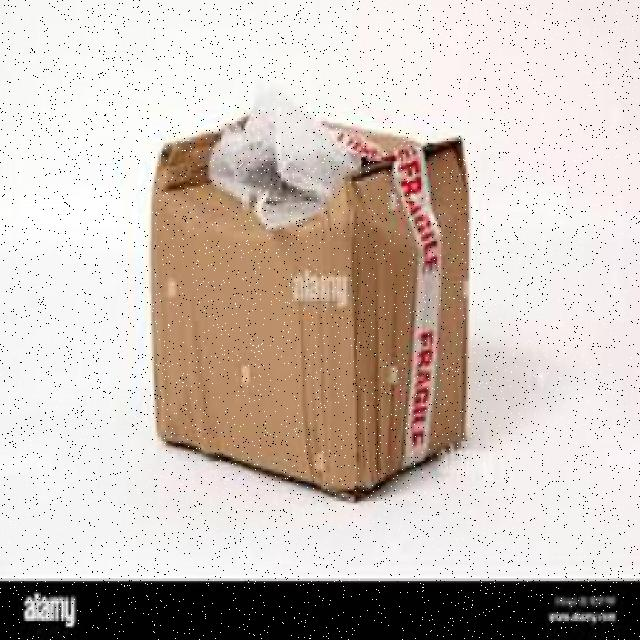defect: (145, 93, 477, 504)
